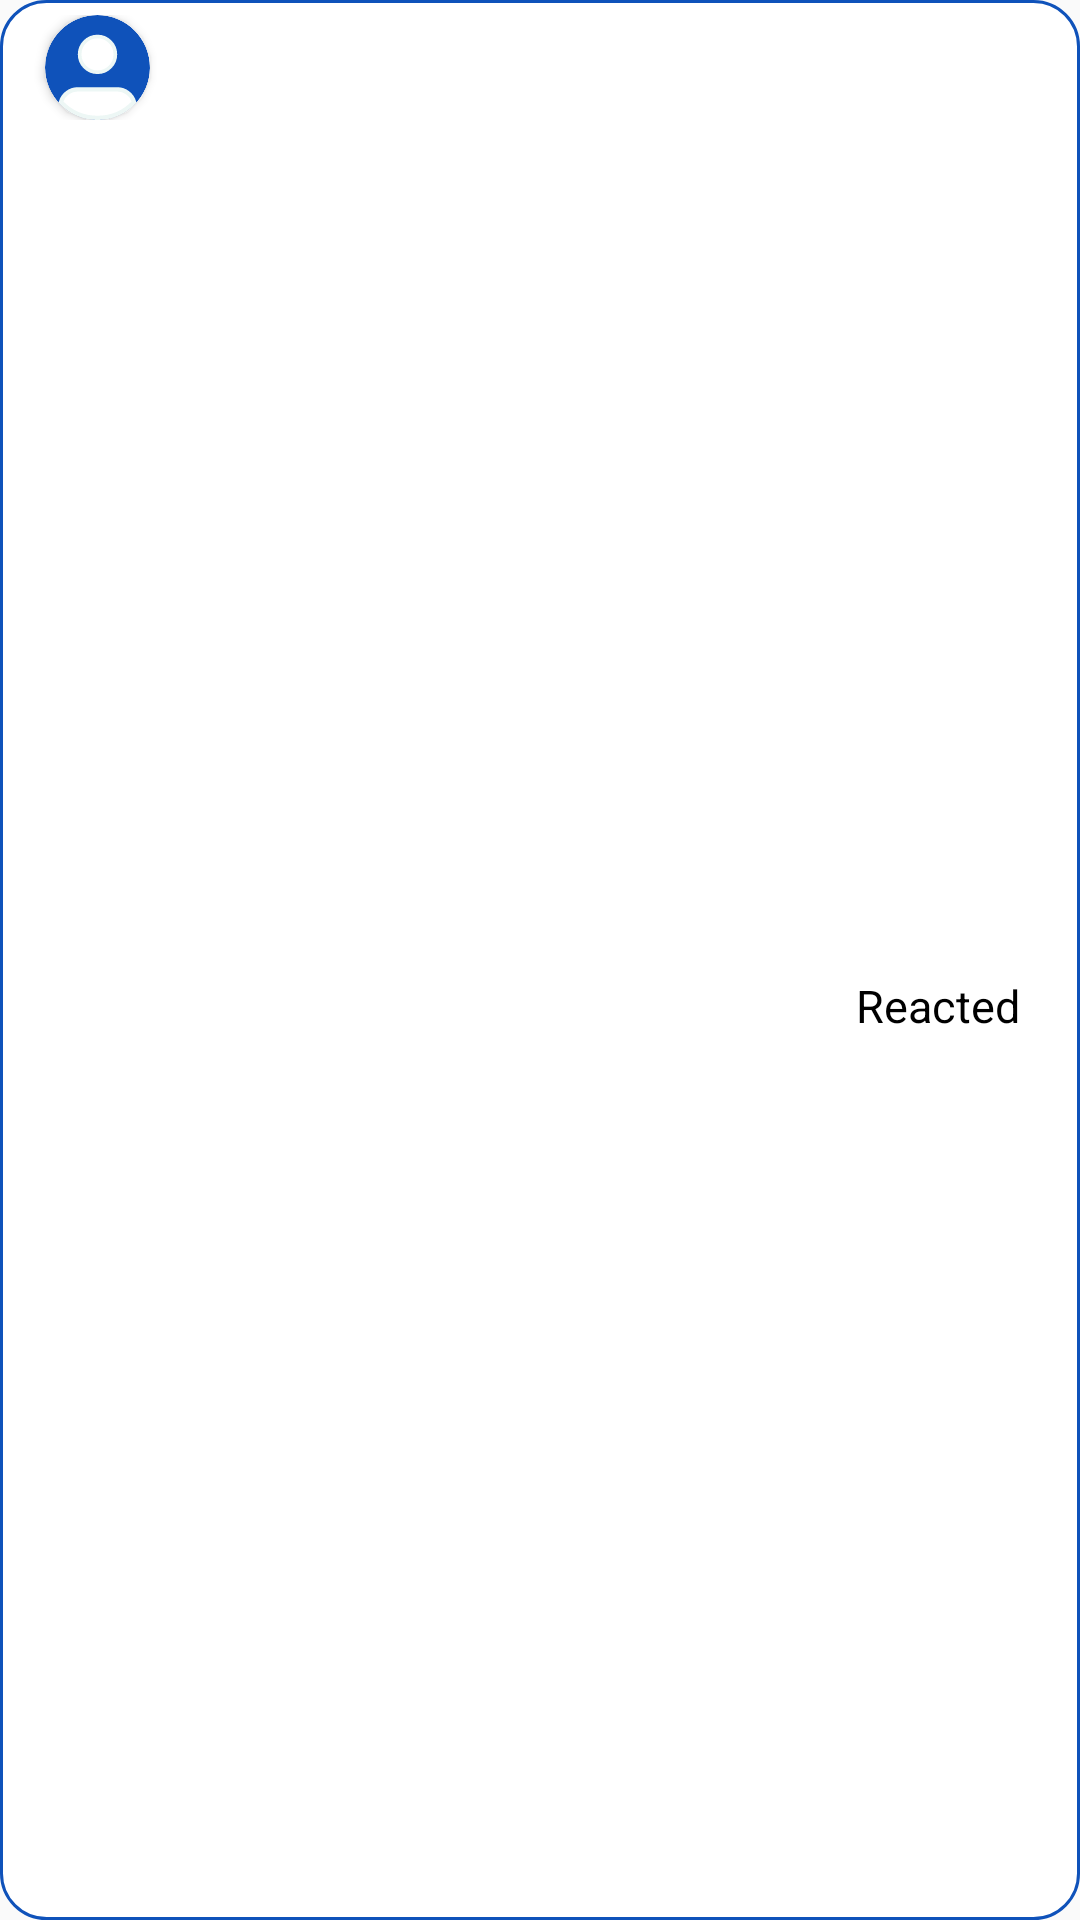

Where icons sit on this 1080x1920 app screen, as (x1, y1, x2, y2):
profile: (45, 15, 150, 120)
